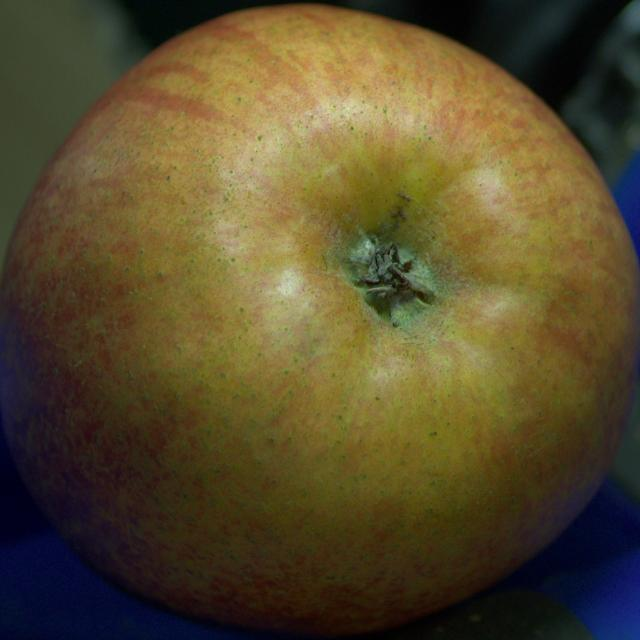apple: (0, 5, 639, 635)
